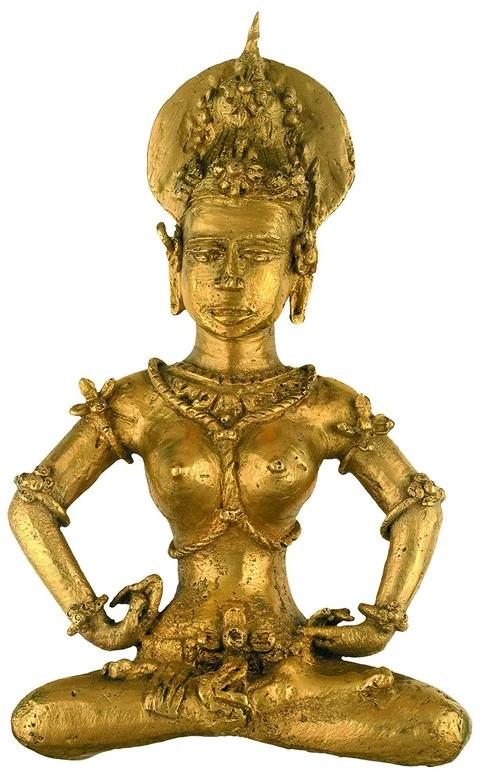golden_tara_of_agusan: (12, 12, 479, 769)
